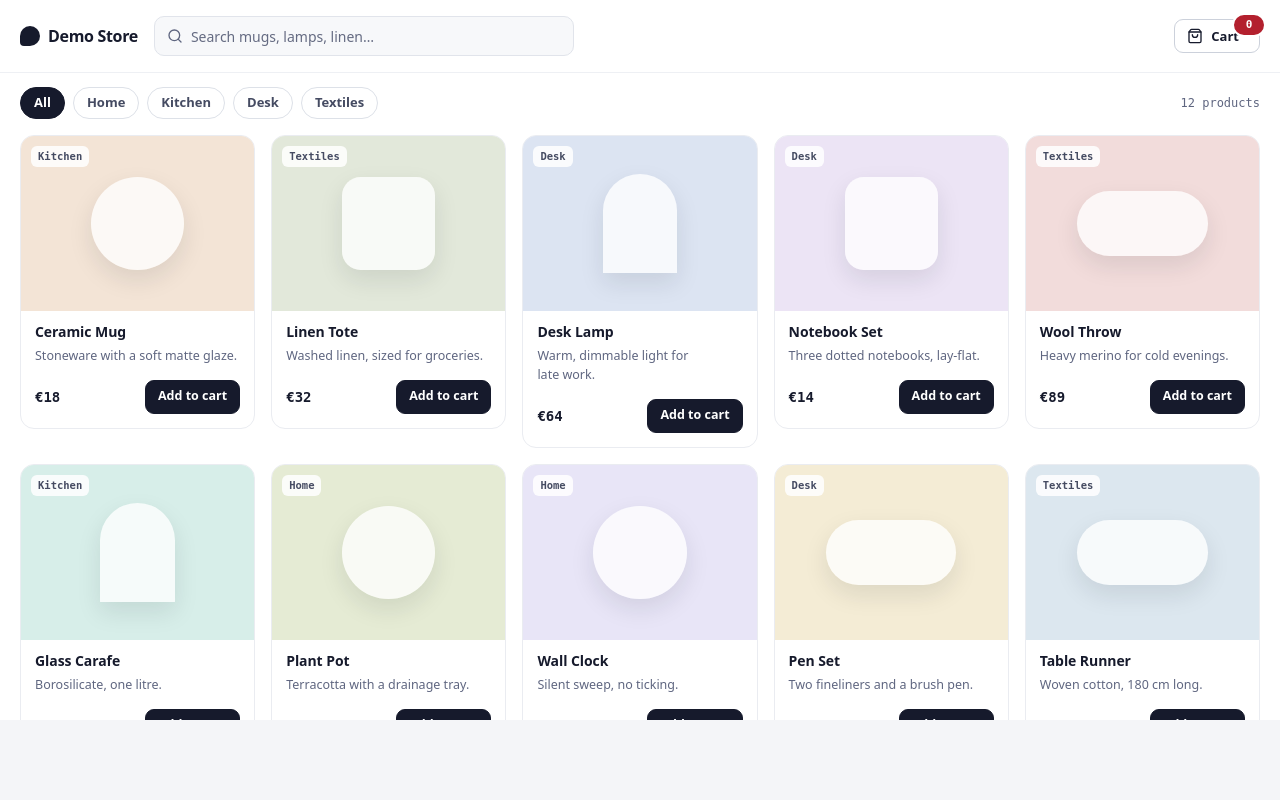
Demo Store › reset empties the cart and ignores responses that arrive afterwards
Click the button with aria-label "Add Ceramic Mug to cart".
click(193, 397)  # box [145, 380, 240, 414]
Wait 300 ms
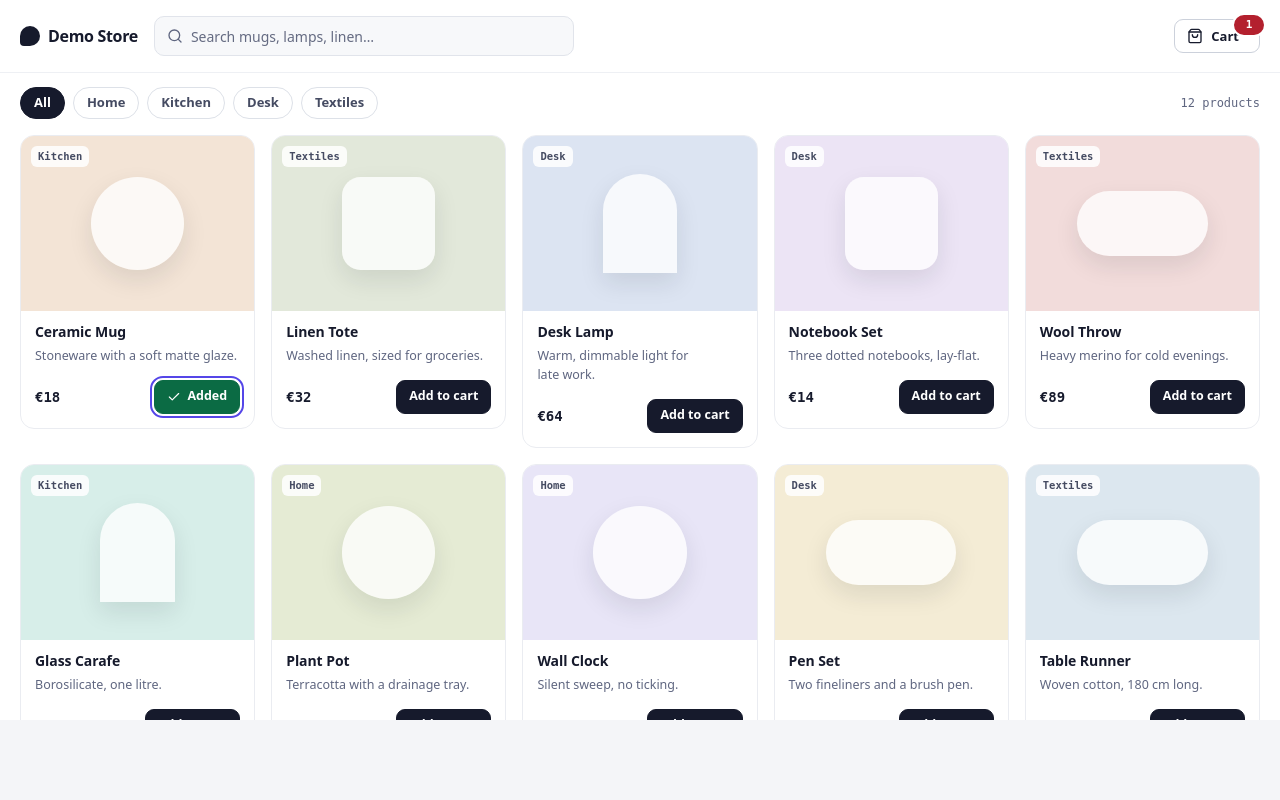
Expected: the button with aria-label "Cart, 1 item" is shown, [1174, 19, 1260, 53]
Click the button with aria-label "Add Linen Tote to cart".
click(444, 397)  # box [396, 380, 491, 414]
Wait 5000 ms
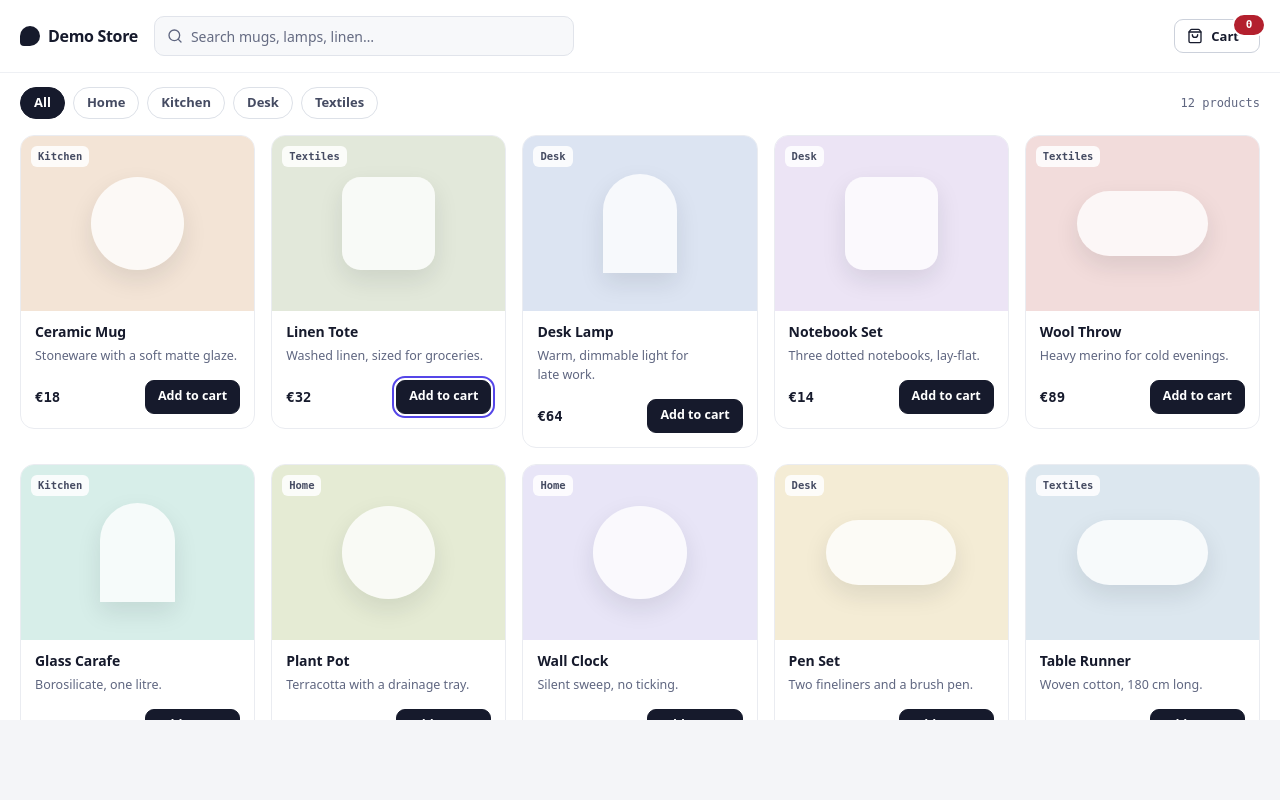
Expected: the button with aria-label "Cart, 0 items" is shown, [1174, 19, 1260, 53]
